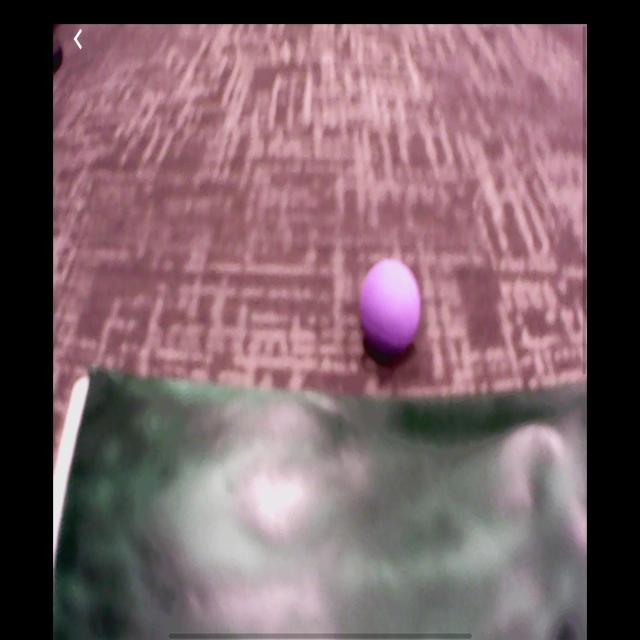ball: (362, 262, 423, 351)
